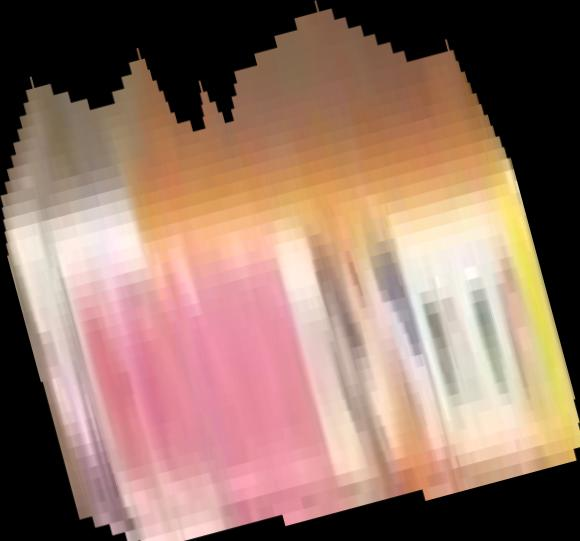flat: (1, 1, 580, 541)
